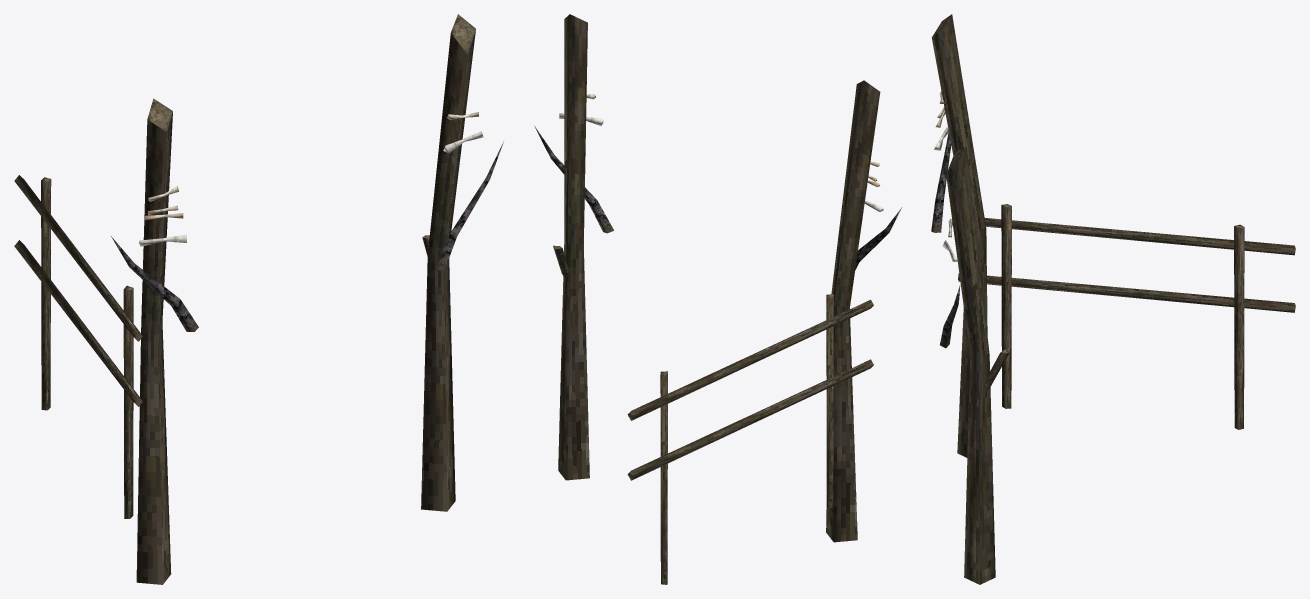
The model's file is thm_dant_gate_l3.fbx.
3 views of the same model, side by side, from view 1: azimuth 30°, elevation 25°; view 2: azimuth 150°, elevation 25°; view 3: azimuth 270°, elevation 25° (orthographic). The views are drawn at different scales.
Parts seen in each view (by area): view 1: mesh_node; view 2: mesh_node; view 3: mesh_node.
Boxes of the visible parts, left/top/right/bottom form: mesh_node: left=14, top=14, right=503, bottom=584; mesh_node: left=534, top=14, right=901, bottom=584; mesh_node: left=931, top=14, right=1295, bottom=584.
Size of the model in its own units: 4.21 by 4.98 by 3.78.
